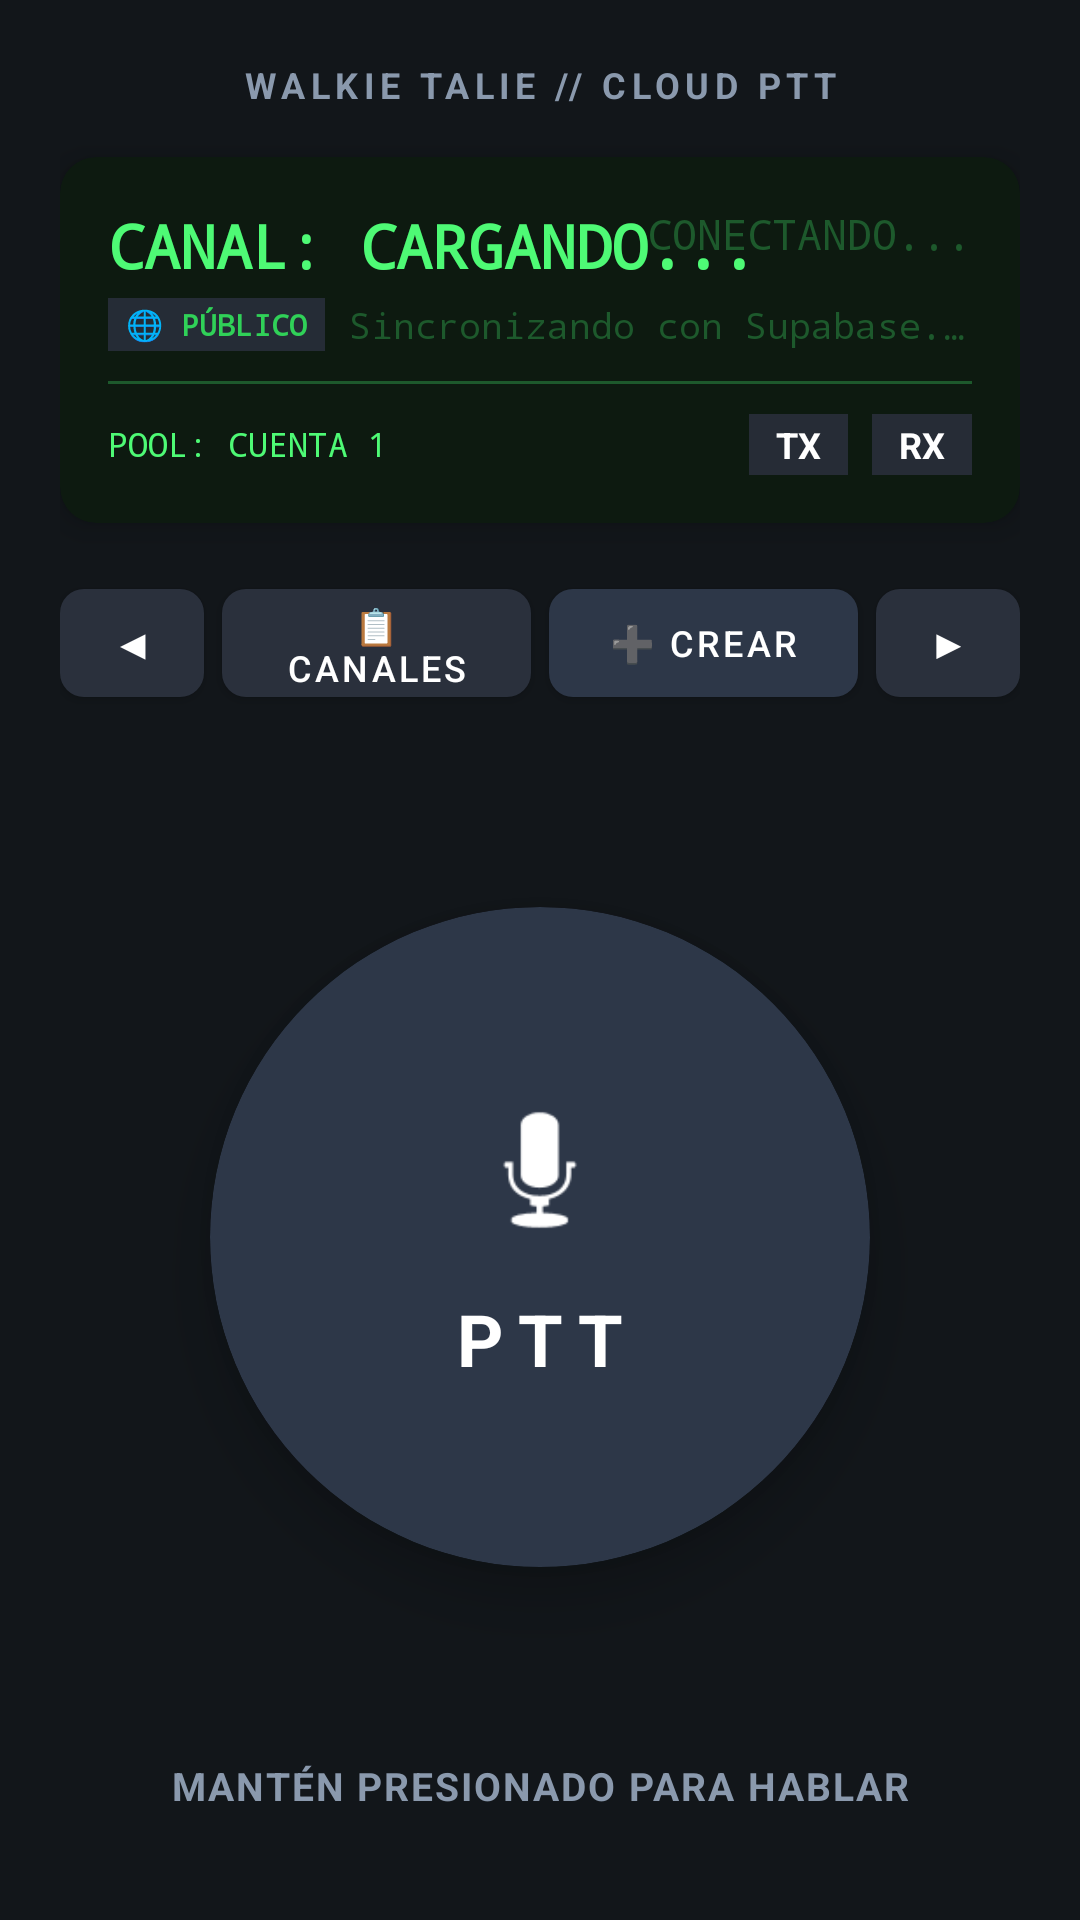

Point at icon controls on the screen. Image size 1080px×1920px, points as point (x, y).
speak now: point (540, 1170)
